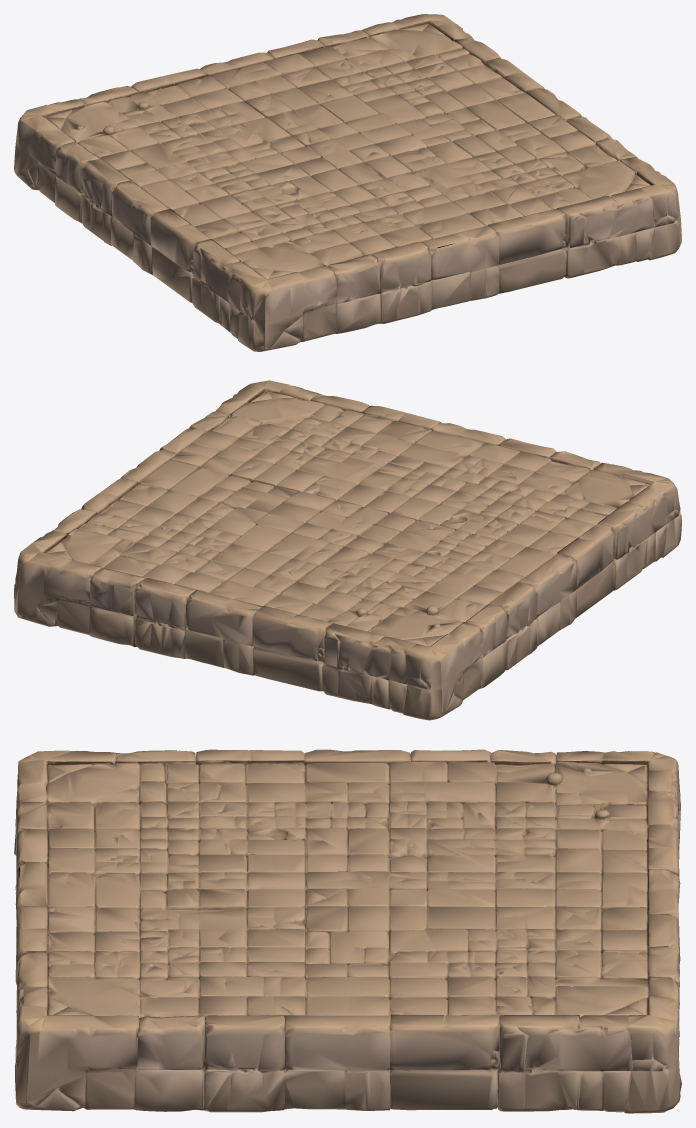
File: plataforma_cubica_2.glb
3 views of the same model, one above another, from view 1: azimuth 30°, elevation 25°; view 2: azimuth 150°, elevation 25°; view 3: azimuth 270°, elevation 25° (orthographic). The views are drawn at different scales.
Visible parts, largest first — view 1: plataforma_cubica_2; view 2: plataforma_cubica_2; view 3: plataforma_cubica_2.
Boxes of the visible parts, bbox=[...] form: plataforma_cubica_2: bbox=[14, 14, 681, 351]; plataforma_cubica_2: bbox=[14, 380, 681, 720]; plataforma_cubica_2: bbox=[14, 749, 681, 1113].
Size of what is drawn, in the model's own units: 3 by 0.4745 by 3.
1 material, 1 textured.
